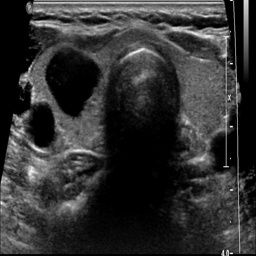mass: (45, 43, 100, 116)
